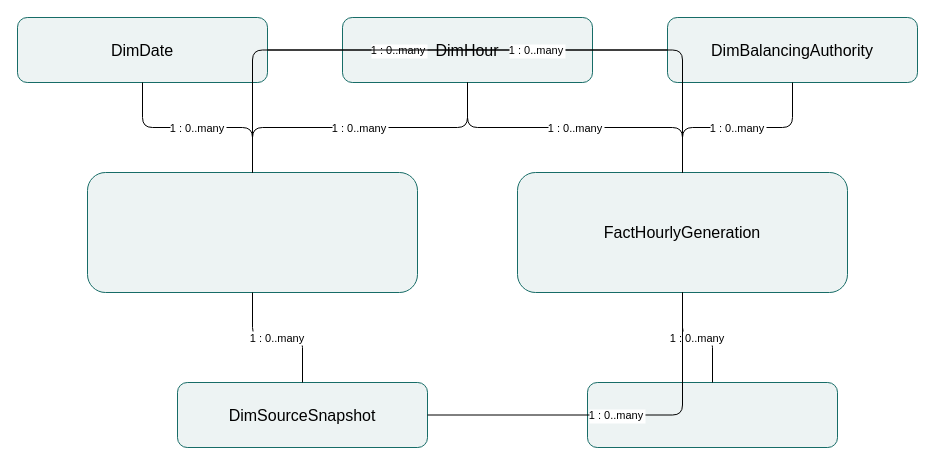
The diagram is 935 pixels wide and 465 high, and some of its shapes have lost their labels. Here are the shapes that lost their labels. From the top down, the centre of each, then its label:
pixel 252 232: FactHourlyDemand
pixel 712 415: DimEnergySource
